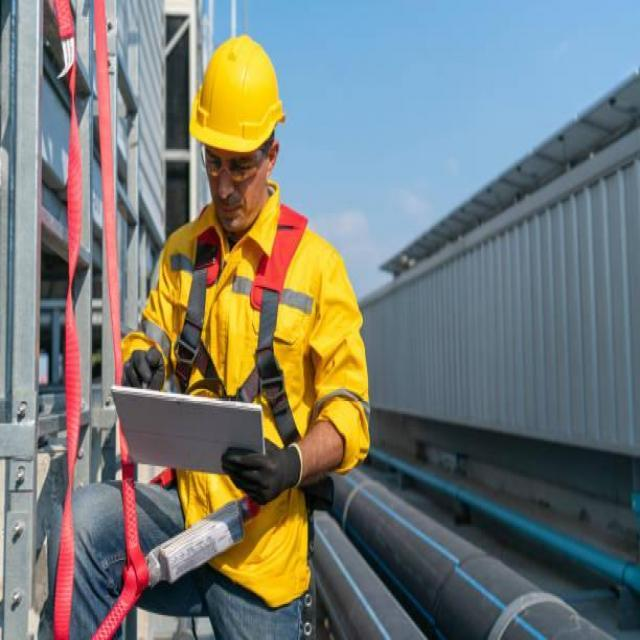belt: (171, 204, 311, 585)
